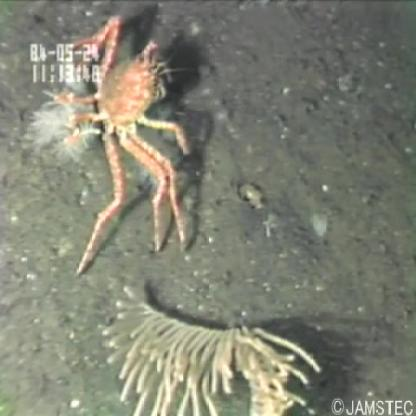Bio: (19, 10, 201, 282), (95, 276, 321, 416)
